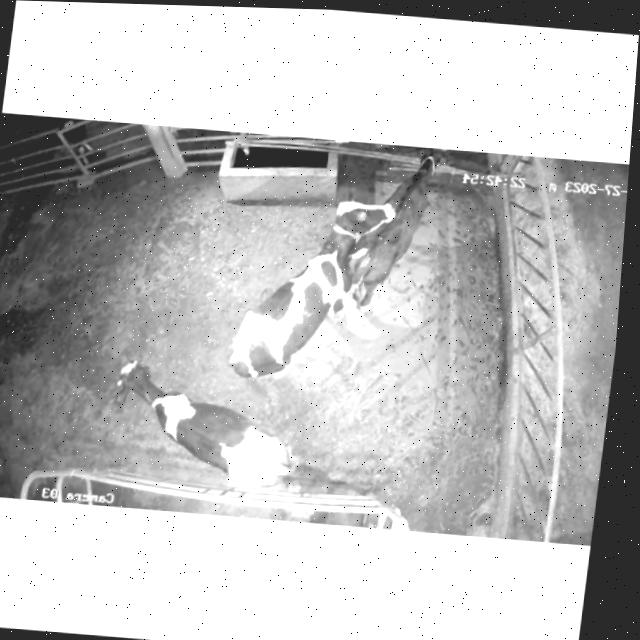propping: (310, 189, 408, 262)
stand: (78, 355, 348, 499), (355, 143, 452, 316)
